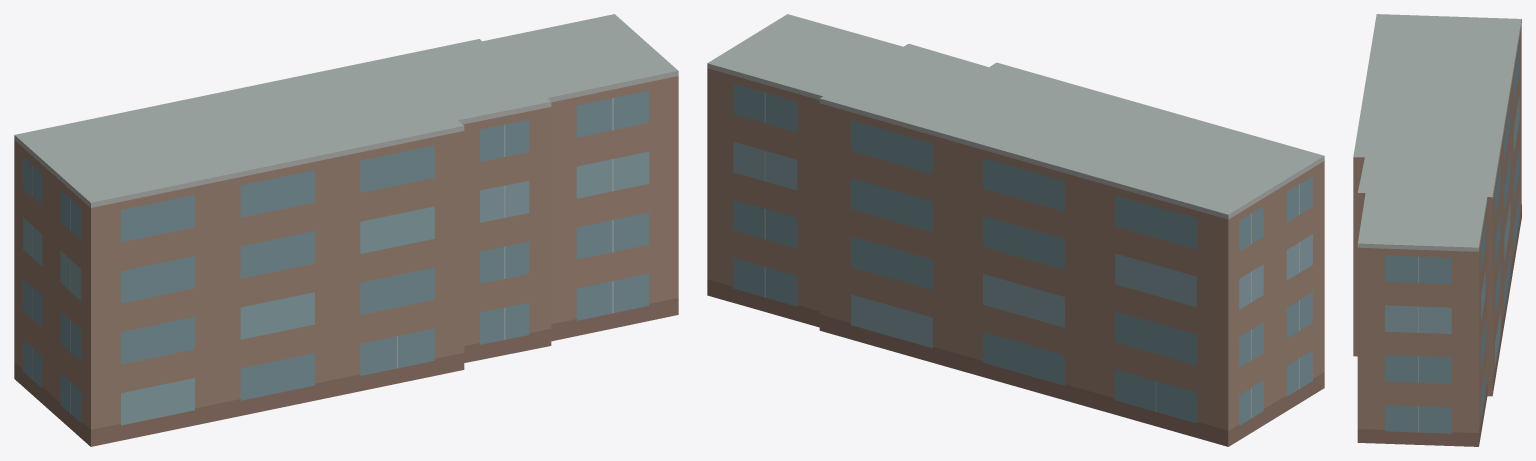
Rendered from survey-upis-32518698.glb.
3 views of the same model, side by side, from view 1: azimuth 30°, elevation 25°; view 2: azimuth 150°, elevation 25°; view 3: azimuth 270°, elevation 25° (orthographic). The views are drawn at different scales.
Parts seen in each view (by area): view 1: survey-upis-32518698.tmp; view 2: survey-upis-32518698.tmp; view 3: survey-upis-32518698.tmp.
Part boxes in pixels (box(x1,y1,x2,y2)): survey-upis-32518698.tmp: box(14, 14, 678, 446); survey-upis-32518698.tmp: box(707, 14, 1324, 446); survey-upis-32518698.tmp: box(1353, 14, 1521, 446).
Bounding box in the file's own units: 29.44 × 11.7 × 8.98.
